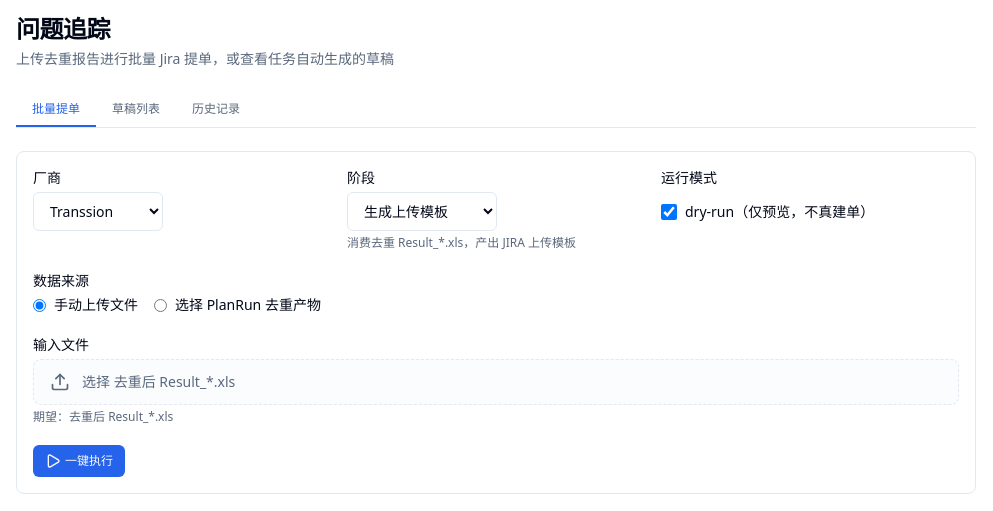
Test case: IssueTrackerPage › switches to the "drafts" tab and shows empty state when no drafts exist
Click the tab with test id "issue-tracker-tab-drafts": (136, 110) [96, 93, 176, 127]
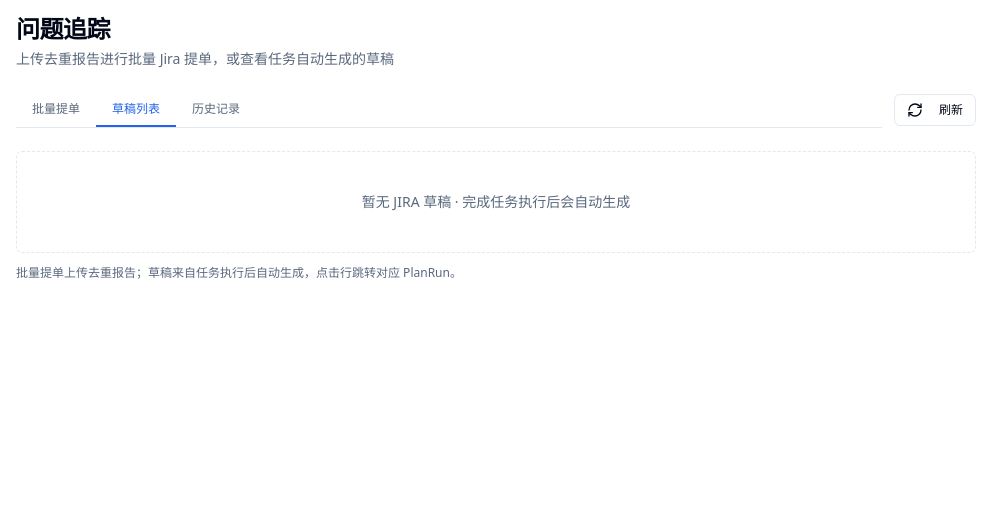
Expected: the text "暂无 JIRA 草稿 · 完成任务执行后会自动生成" is shown, [16, 151, 976, 253]
